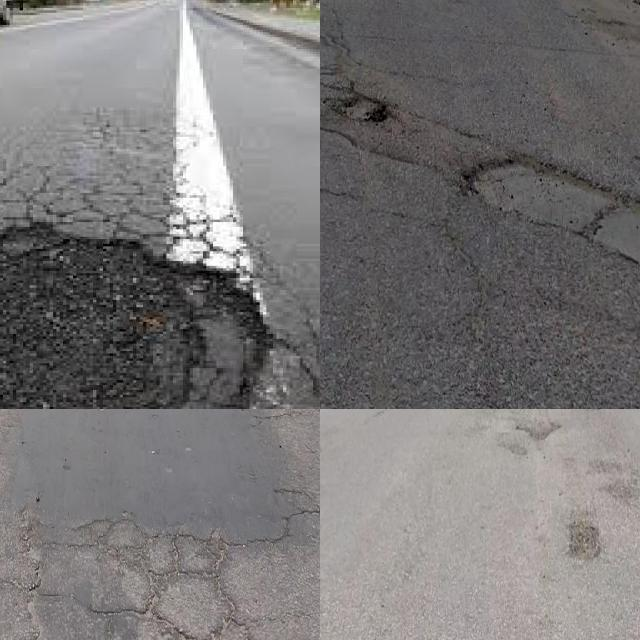Pothole: (0, 227, 280, 409), (462, 154, 631, 239), (409, 409, 545, 446), (326, 88, 392, 129), (568, 516, 600, 565)
